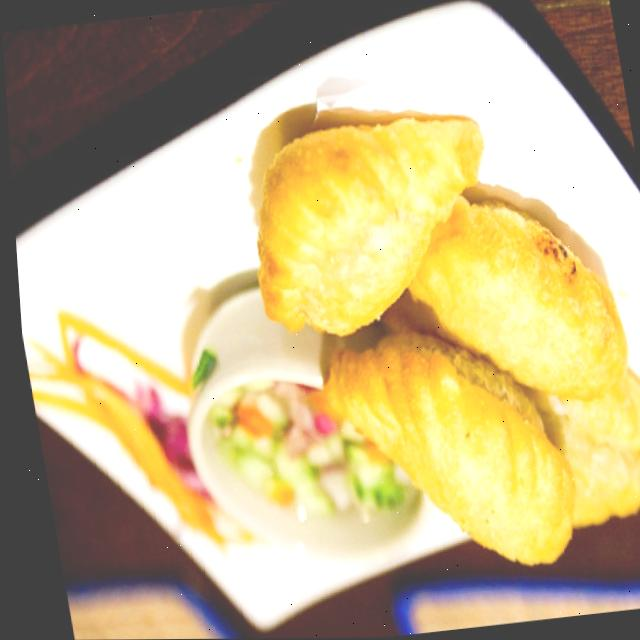炸货点心: (16, 5, 640, 640)
